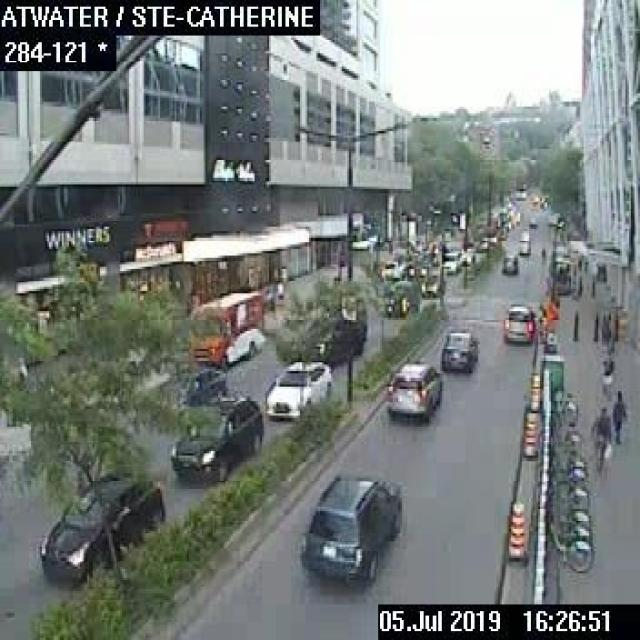construction: (506, 498, 524, 558), (520, 408, 537, 458), (527, 371, 540, 411)
cyclist: (538, 244, 545, 266)
pedestrian: (591, 403, 610, 471), (610, 388, 628, 442), (599, 349, 612, 397)
vehicle: (38, 471, 164, 582), (298, 471, 401, 585), (168, 393, 262, 478), (186, 290, 262, 368), (276, 317, 364, 366), (264, 359, 332, 419), (382, 362, 441, 420), (173, 363, 224, 406), (440, 329, 478, 372), (502, 302, 534, 342), (420, 270, 444, 295), (440, 250, 460, 272), (500, 253, 517, 273), (517, 230, 529, 253), (460, 248, 474, 264), (528, 215, 536, 228)
